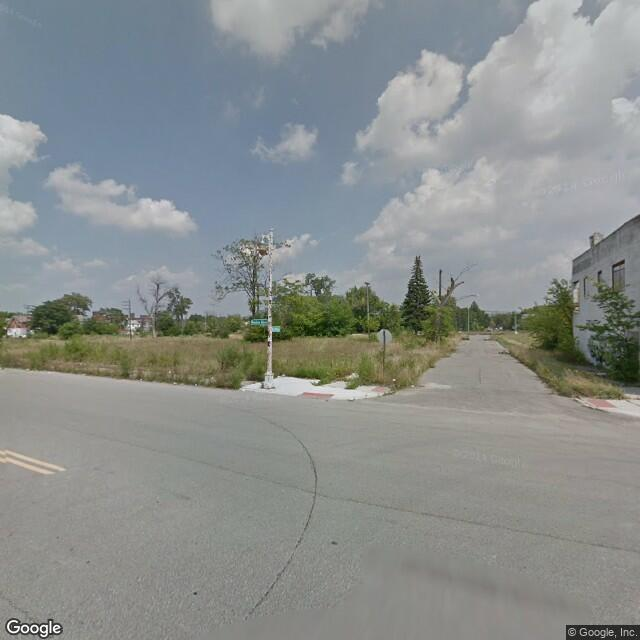litter: (347, 371, 366, 382), (407, 383, 420, 389), (390, 374, 396, 385), (171, 383, 180, 388), (193, 382, 200, 388)
